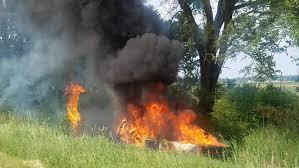fire: (115, 80, 238, 157), (59, 77, 89, 134)
